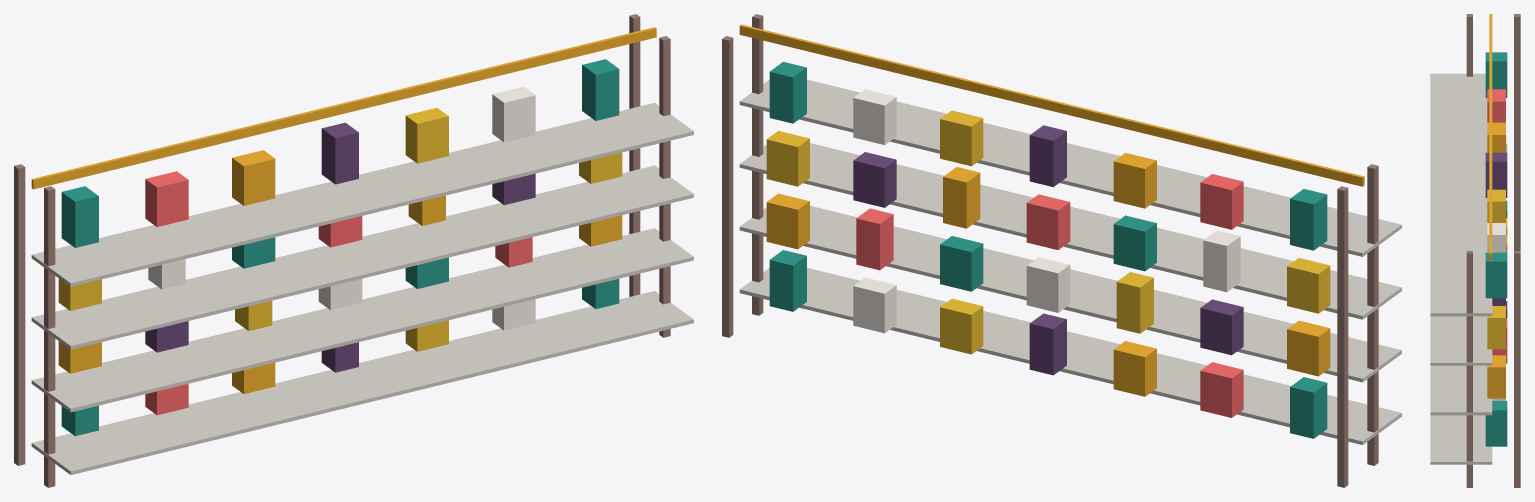
Rendered from detergent_shelf.glb.
The picture shows the model from 3 angles, left to right: view 1: azimuth 30°, elevation 25°; view 2: azimuth 150°, elevation 25°; view 3: azimuth 270°, elevation 25°; orthographic projection. The views are drawn at different scales.
Visible parts, largest first — view 1: shelf_1, shelf_2, shelf_3, shelf_0, price_rail, upright_-1950_390, upright_-1950_60, upright_1950_60, box_3_1, box_3_2, box_3_4, box_3_5 (+25 smaller); view 2: shelf_0, shelf_3, shelf_1, shelf_2, price_rail, upright_1950_390, upright_-1950_390, upright_-1950_60, upright_1950_60, box_2_3, box_1_3, box_1_6 (+25 smaller); view 3: shelf_3, shelf_1, shelf_2, shelf_0, upright_1950_390, upright_-1950_390, upright_1950_60, jug_3_6, price_rail, jug_0_6, jug_3_0, jug_3_3 (+8 smaller).
Part boxes in pixels (left/top/right/bottom): shelf_1: left=31, top=228, right=693, bottom=412; shelf_2: left=31, top=165, right=693, bottom=349; shelf_3: left=31, top=102, right=693, bottom=286; shelf_0: left=31, top=291, right=693, bottom=474; price_rail: left=31, top=27, right=656, bottom=189; upright_-1950_390: left=14, top=164, right=25, bottom=465; upright_-1950_60: left=44, top=186, right=55, bottom=487; upright_1950_60: left=659, top=36, right=670, bottom=337; box_3_1: left=145, top=171, right=188, bottom=226; box_3_2: left=232, top=150, right=275, bottom=205; box_3_4: left=405, top=108, right=448, bottom=163; box_3_5: left=492, top=86, right=535, bottom=142; shelf_0: left=739, top=268, right=1401, bottom=444; shelf_3: left=739, top=79, right=1401, bottom=256; shelf_1: left=739, top=206, right=1401, bottom=382; shelf_2: left=739, top=143, right=1401, bottom=319; price_rail: left=739, top=24, right=1364, bottom=186; upright_1950_390: left=722, top=36, right=733, bottom=337; upright_-1950_390: left=1337, top=186, right=1348, bottom=487; upright_-1950_60: left=1367, top=164, right=1378, bottom=465; upright_1950_60: left=752, top=14, right=763, bottom=315; box_2_3: left=1026, top=194, right=1070, bottom=249; box_1_3: left=1026, top=257, right=1070, bottom=312; box_1_6: left=766, top=193, right=809, bottom=249; shelf_3: left=1430, top=73, right=1492, bottom=316; shelf_1: left=1430, top=365, right=1492, bottom=415; shelf_2: left=1430, top=316, right=1492, bottom=365; shelf_0: left=1430, top=415, right=1492, bottom=464; upright_1950_390: left=1514, top=251, right=1520, bottom=487; upright_-1950_390: left=1514, top=14, right=1520, bottom=250; upright_1950_60: left=1466, top=251, right=1472, bottom=487; jug_3_6: left=1485, top=252, right=1507, bottom=298; price_rail: left=1489, top=14, right=1492, bottom=260; jug_0_6: left=1485, top=401, right=1507, bottom=446; jug_3_0: left=1485, top=52, right=1507, bottom=97; jug_3_3: left=1485, top=152, right=1507, bottom=197.
Bounding box in the file's own units: 3.95 × 1.8 × 0.6275.
